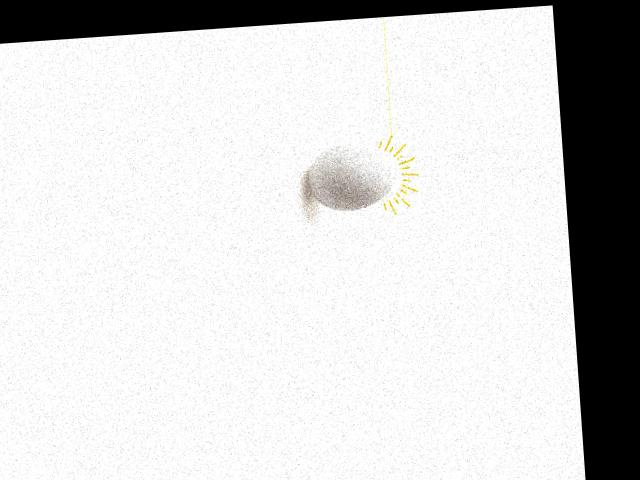egg: (306, 141, 396, 212)
